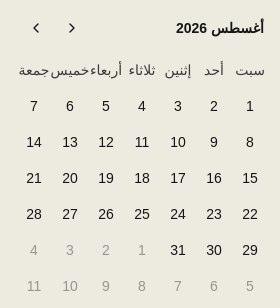
Test: Calendar primitive › navigates between months with the caption controls
What coordinates should you click on to do the following:
click the button named "الشهر السابق"
I would click on:
 (72, 28)
Its box is [56,12,88,44].
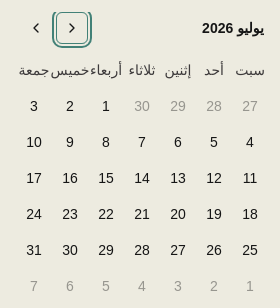
expect the text "يوليو 2026" is shown: met, box [202,18,264,38]
What coordinates should you click on to do the following:
click the button named "الشهر التالي"
I would click on:
 (36, 28)
Its box is [20,12,52,44].
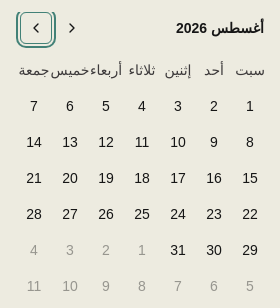
What coordinates should you click on to do the following:
click the button named "الشهر التالي"
I would click on:
 (36, 28)
Its box is [20,12,52,44].
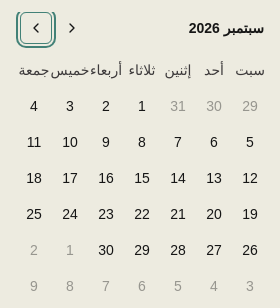
expect the text "سبتمبر 2026" is shown: met, box [189,18,264,38]
